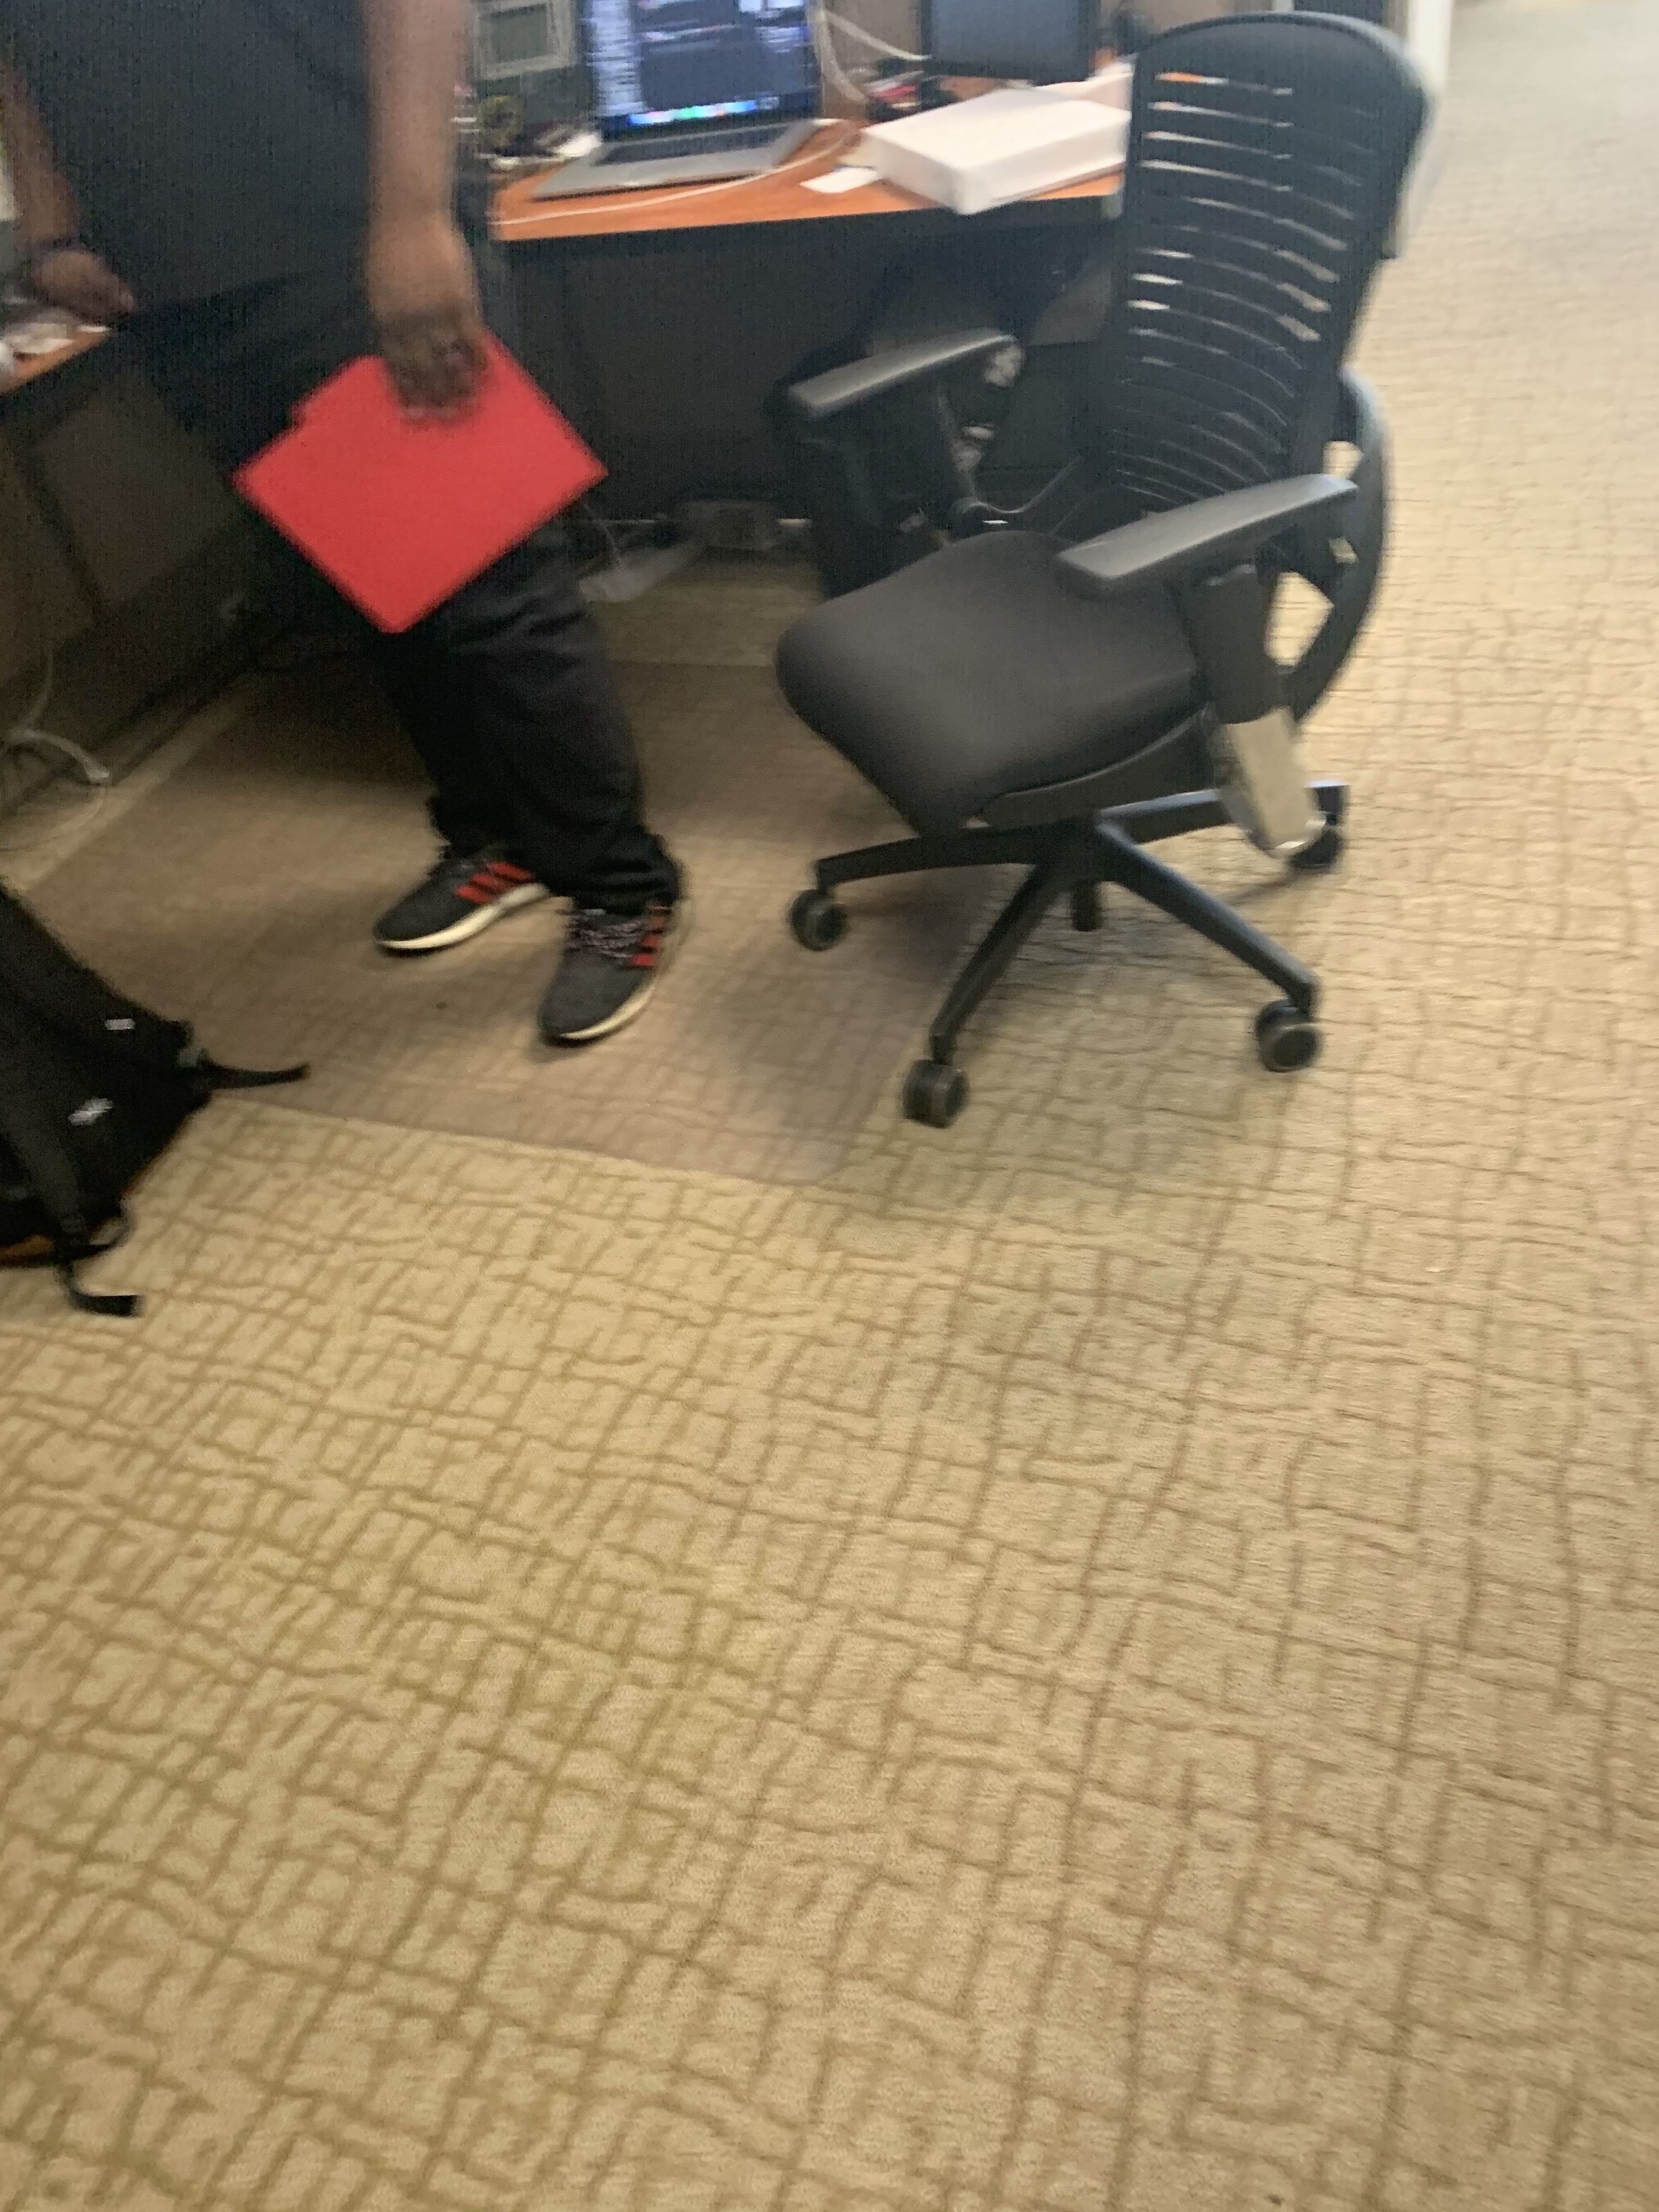red folder: (214, 336, 645, 646)
